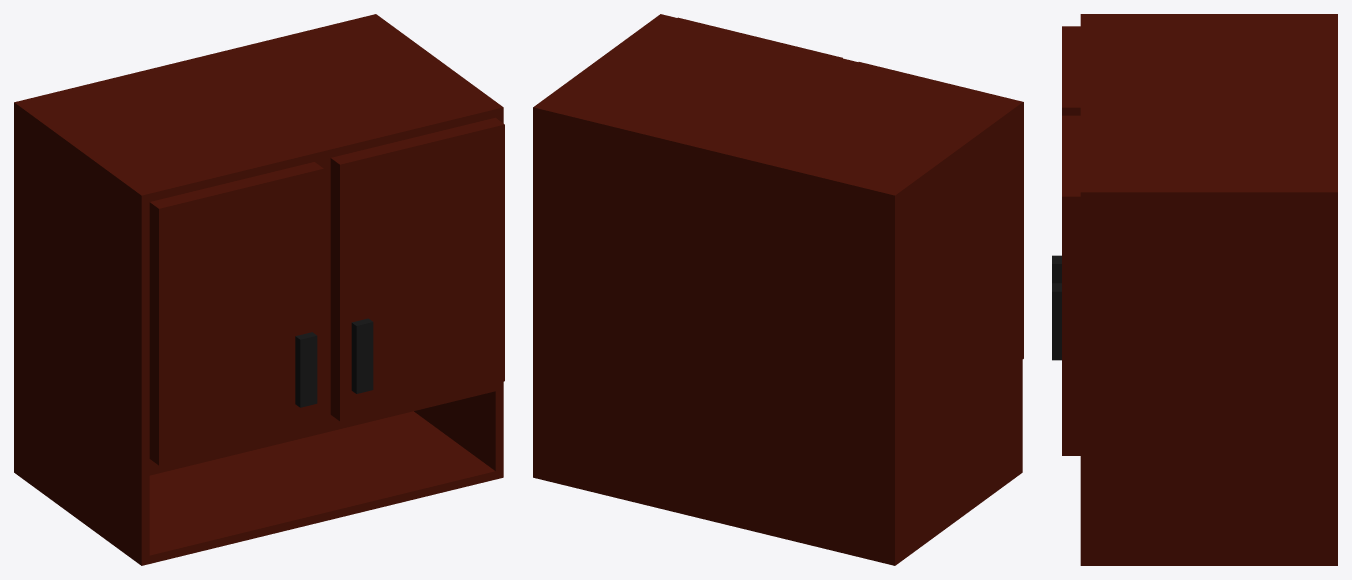
Rendered from Kitchen Cabinet.fbx.
3 renders of one model, left to right at view 1: azimuth 30°, elevation 25°; view 2: azimuth 150°, elevation 25°; view 3: azimuth 270°, elevation 25°, orthographic.
Parts seen in each view (by area): view 1: Box002; view 2: Box002; view 3: Box002.
Part boxes in pixels (x1,y1,x2,y2): Box002: [14, 14, 504, 565]; Box002: [533, 14, 1023, 565]; Box002: [1052, 14, 1337, 565].
Bounding box in the file's own units: 0.9 × 0.88 × 0.61.
